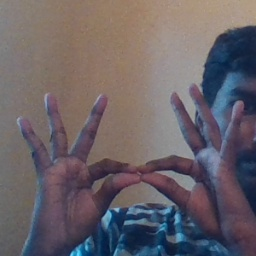B: (60, 107, 221, 222)
